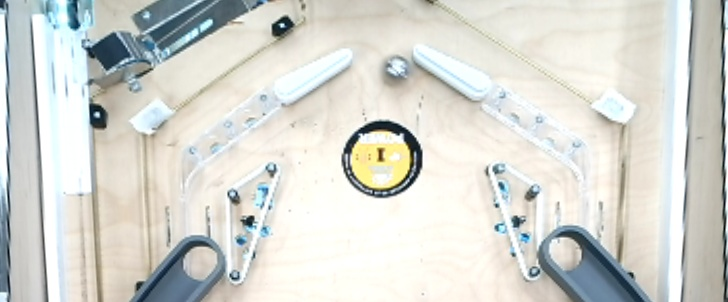ball: (380, 52, 411, 84)
flipper-left: (412, 40, 500, 106)
flipper-right: (275, 43, 356, 110)
